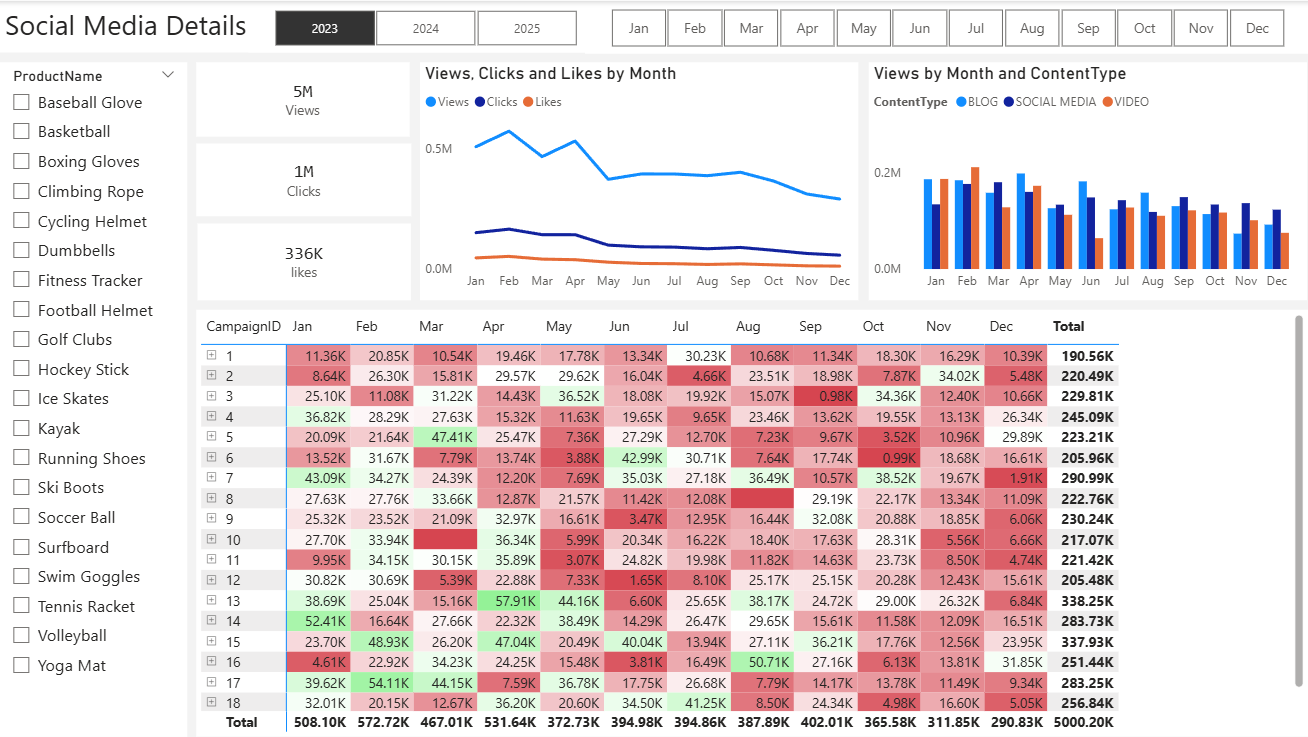

This screenshot's page, from the dashboard's own definition file:
{"tool":"powerbi","page":{"name":"SocialMedia Details","canvas":[1280,720],"ordinal":2},"visuals":[{"type":"textbox","box":[0,0,1280.3,50.1],"z":0},{"type":"slicer","fields":{"Values":["Dim_Products.ProductName"]},"box":[0,59.9,183.4,660.3],"z":1000},{"type":"cardVisual","fields":{"Data":["Measures (2).Views"]},"box":[192.5,60,208.8,72.5],"z":2000},{"type":"cardVisual","fields":{"Data":["Measures (2).likes"]},"box":[192.8,217.4,208.8,75],"z":3000},{"type":"cardVisual","fields":{"Data":["Measures (2).Clicks"]},"box":[191.6,139.9,210,71.2],"z":4000},{"type":"slicer","fields":{"Values":["Dim_Calender.MonthNameShort"]},"box":[572.3,1.2,708,50.1],"z":5000},{"type":"lineChart","fields":{"Category":["Dim_Calender.MonthNameShort"],"Y":["Measures (2).Views","Measures (2).Clicks","Measures (2).likes"]},"box":[411.2,60,428.8,232.5],"z":6000},{"type":"clusteredColumnChart","fields":{"Category":["Dim_Calender.MonthNameShort"],"Y":["Measures (2).Views"],"Series":["Fact_EngagementData.ContentType"]},"box":[850,60,428.8,232.5],"z":7000},{"type":"pivotTable","fields":{"Rows":["Dim_Products.ProductName","Fact_EngagementData.ContentType"],"Columns":["Dim_Calender.MonthNameShort"],"Values":["Measures (2).Views"]},"box":[191.2,302.5,1087.5,417.5],"z":8000},{"type":"slicer","fields":{"Values":["Dim_Calender.Year"]},"box":[243.3,2.4,344.8,47.7],"z":9000}]}

Visuals, with their boxes in screenshot pixels (x1, y1, x2, y2), scaled from the page's 1280x720 canvas onto the 1308x737 screenshot:
textbox: <region>0, 0, 1307, 51</region>
slicer - Dim_Products.ProductName: <region>0, 61, 187, 736</region>
cardVisual - Measures (2).Views: <region>197, 61, 410, 136</region>
cardVisual - Measures (2).likes: <region>197, 223, 410, 299</region>
cardVisual - Measures (2).Clicks: <region>196, 143, 410, 216</region>
slicer - Dim_Calender.MonthNameShort: <region>585, 1, 1307, 53</region>
lineChart - Dim_Calender.MonthNameShort x Measures (2).Views: <region>420, 61, 858, 299</region>
clusteredColumnChart - Dim_Calender.MonthNameShort x Measures (2).Views: <region>869, 61, 1307, 299</region>
pivotTable - Dim_Products.ProductName x Fact_EngagementData.ContentType: <region>195, 310, 1307, 736</region>
slicer - Dim_Calender.Year: <region>249, 2, 601, 51</region>
